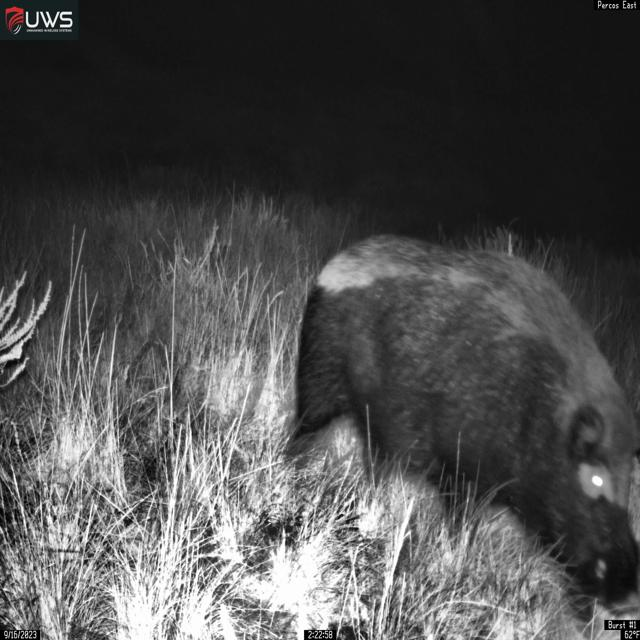pig: (284, 230, 640, 628)
